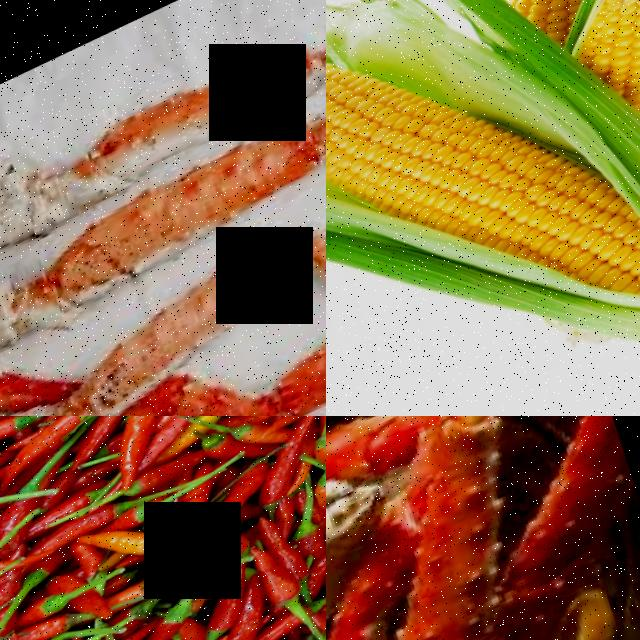chilli: (23, 496, 144, 566), (0, 416, 106, 488), (242, 441, 320, 527), (100, 416, 177, 494), (248, 543, 311, 625)
corn: (402, 75, 640, 413), (326, 0, 502, 267), (562, 0, 640, 170), (471, 0, 640, 54)
crab: (0, 0, 326, 280), (0, 105, 326, 362), (1, 159, 326, 416), (326, 416, 600, 640)
